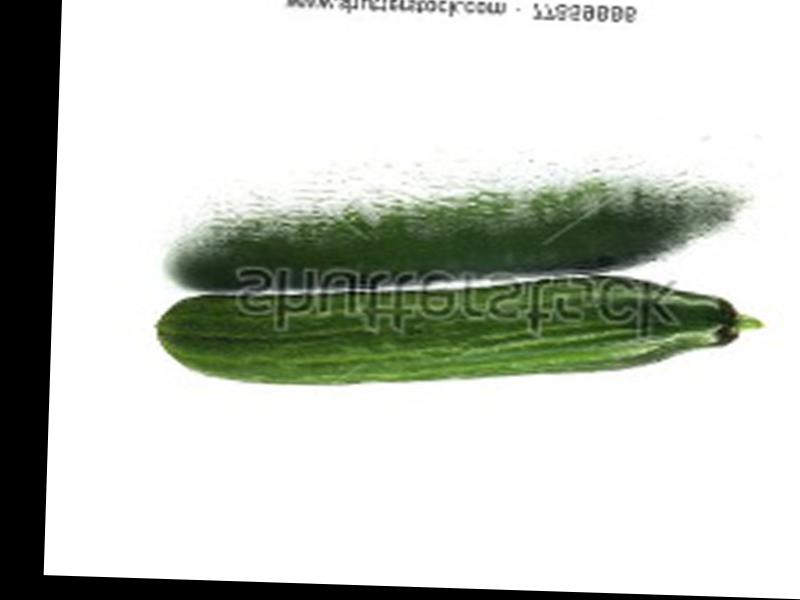Cucumber: (159, 261, 762, 401)
